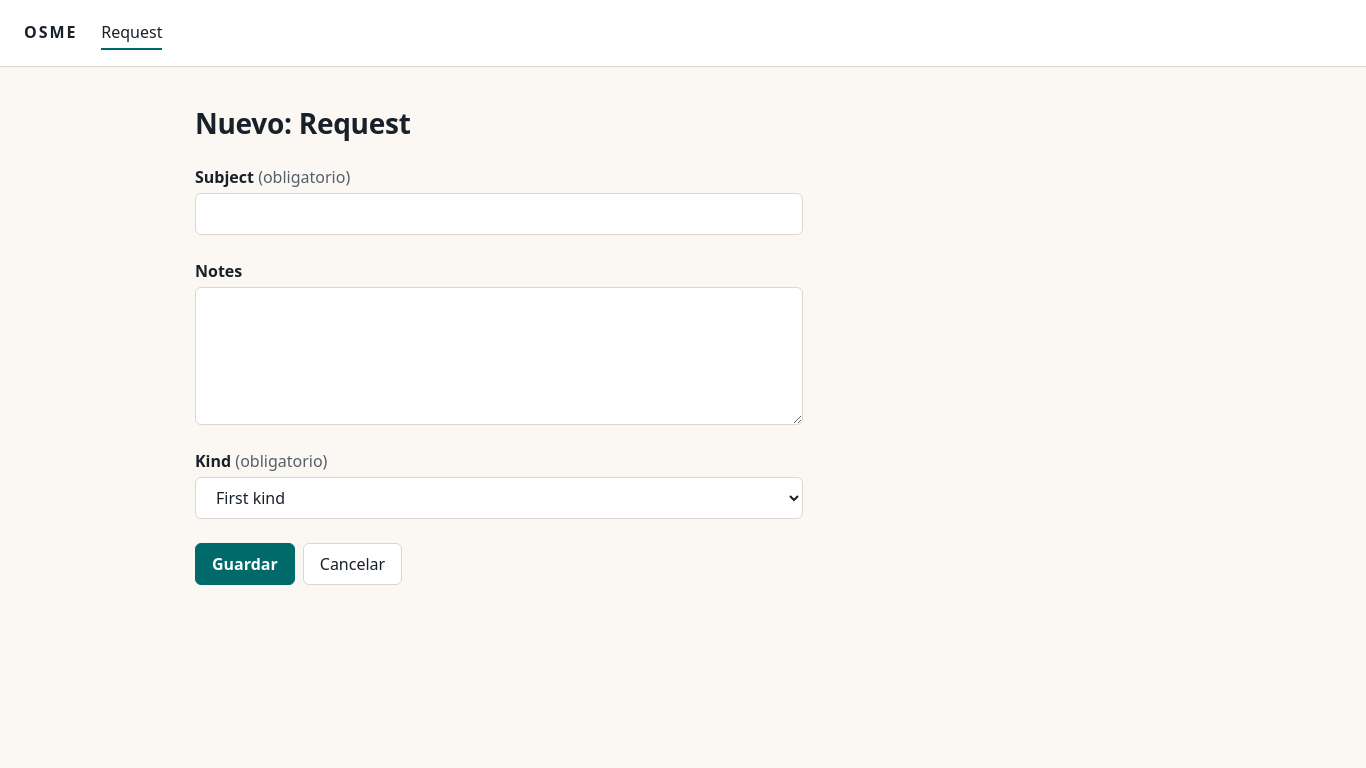
Test: an accepted record leads to the list with the new record on top
Type "Brand new" into the field labelled "Subject (obligatorio)" at (499, 214), box left=195, top=193, right=803, bottom=235
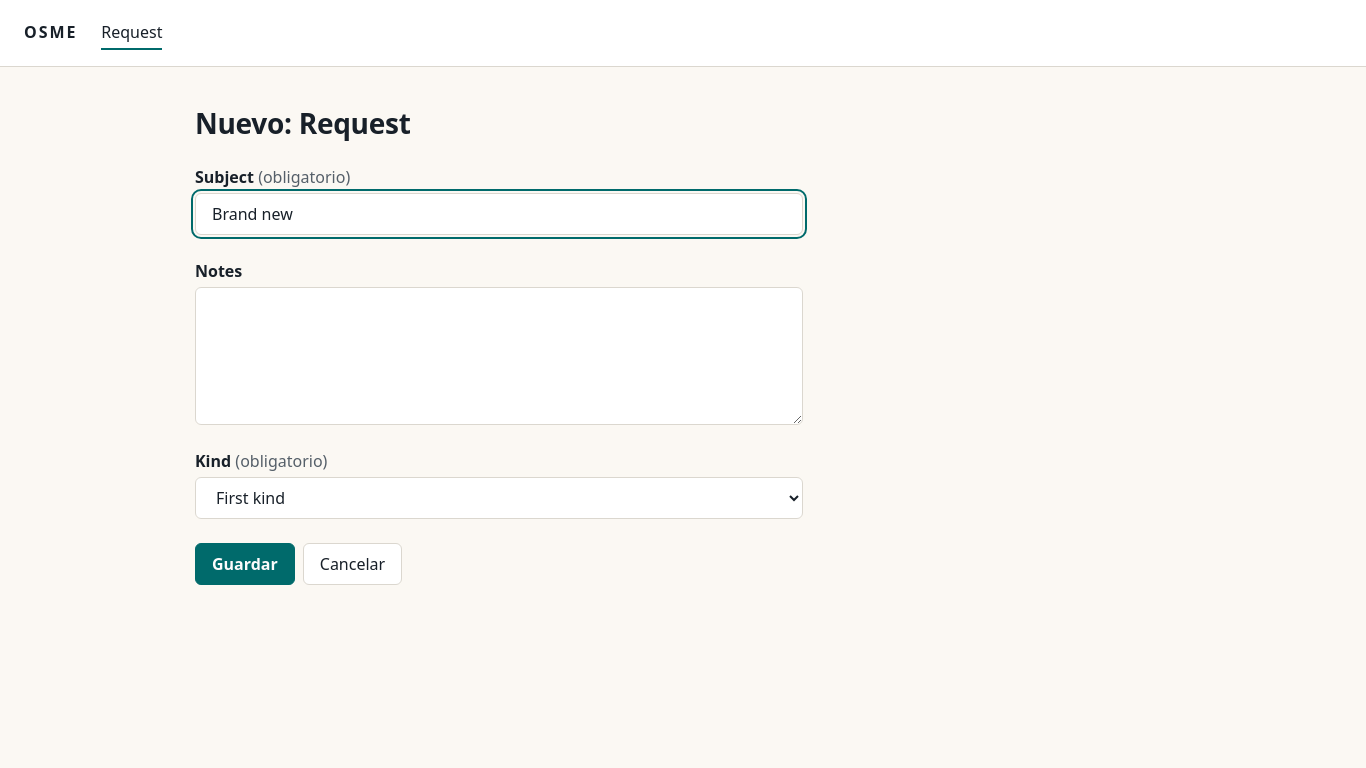
Type "Some detail" into the text box labelled "Notes" at (499, 356), box left=195, top=287, right=803, bottom=425
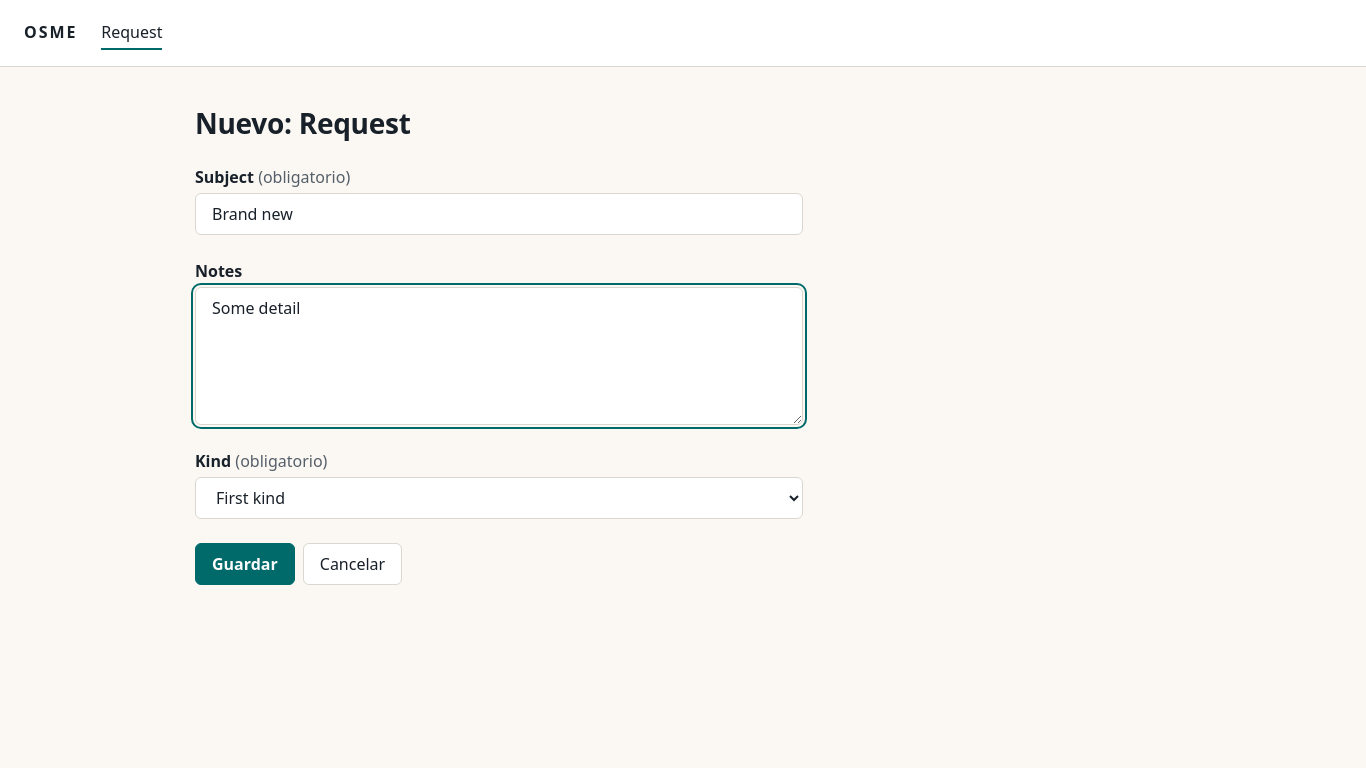
Select "Second kind" in the dropdown labelled "Kind (obligatorio)" at (499, 498), box left=195, top=477, right=803, bottom=519
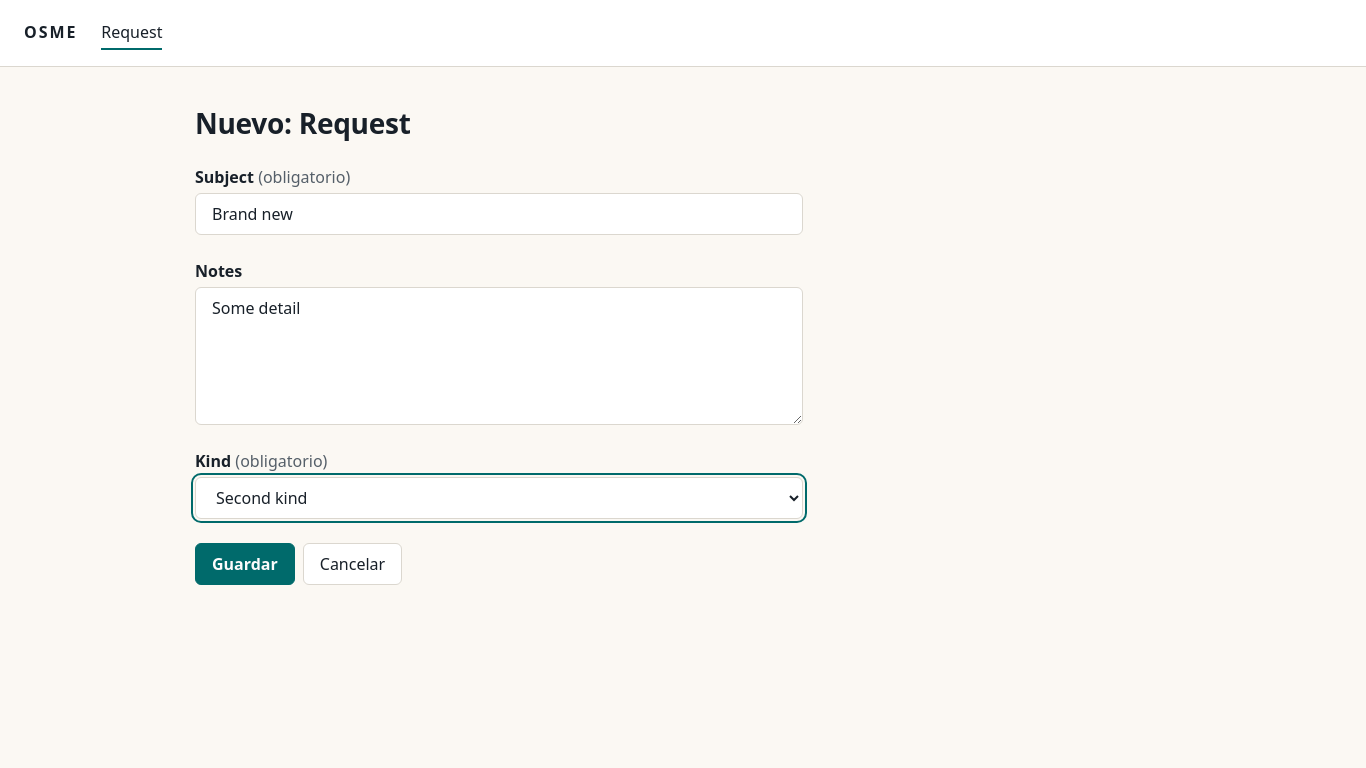
Click the button "Guardar" at (245, 564), box left=195, top=543, right=295, bottom=585
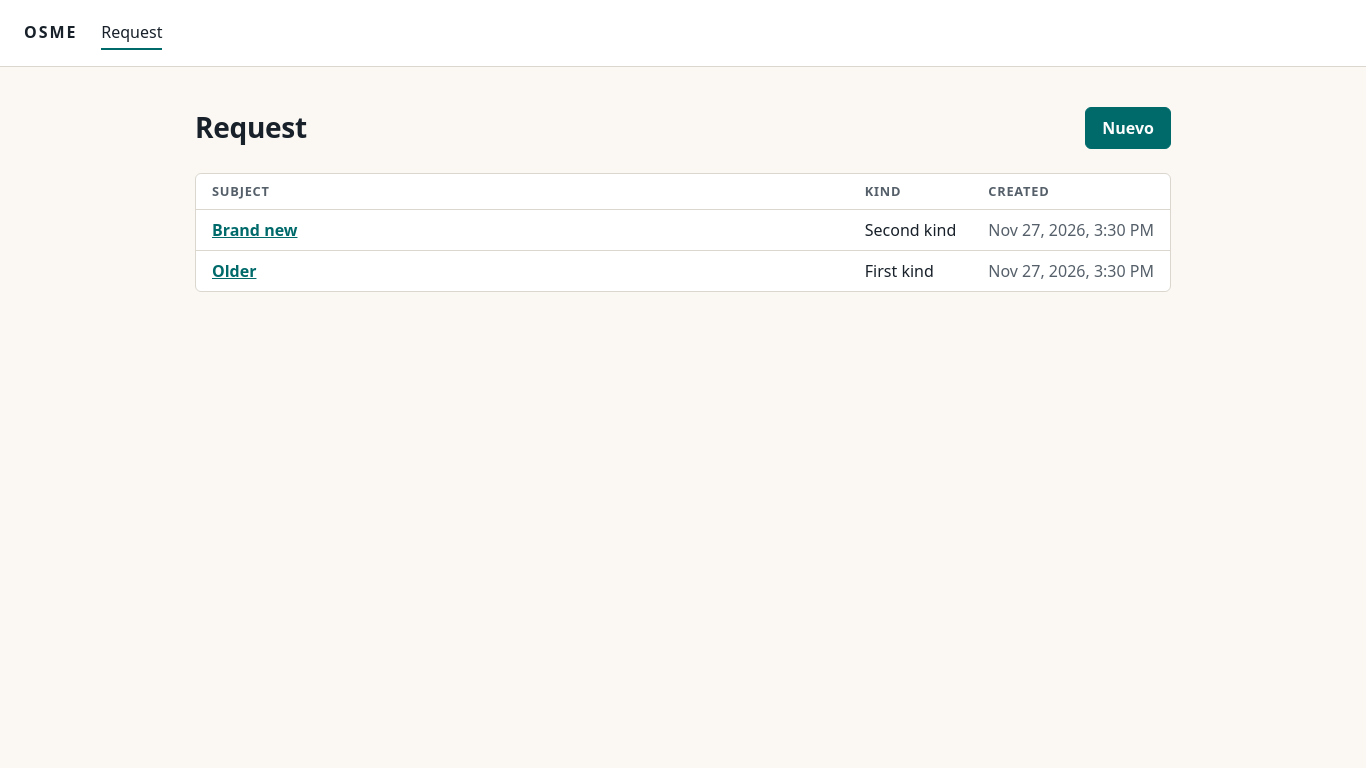
Now the row "Brand new Second kind Nov 27, 2026, 3:30 PM" is shown, box left=196, top=210, right=1170, bottom=251
Now the row "Older First kind Nov 27, 2026, 3:30 PM" is shown, box left=196, top=251, right=1170, bottom=291
